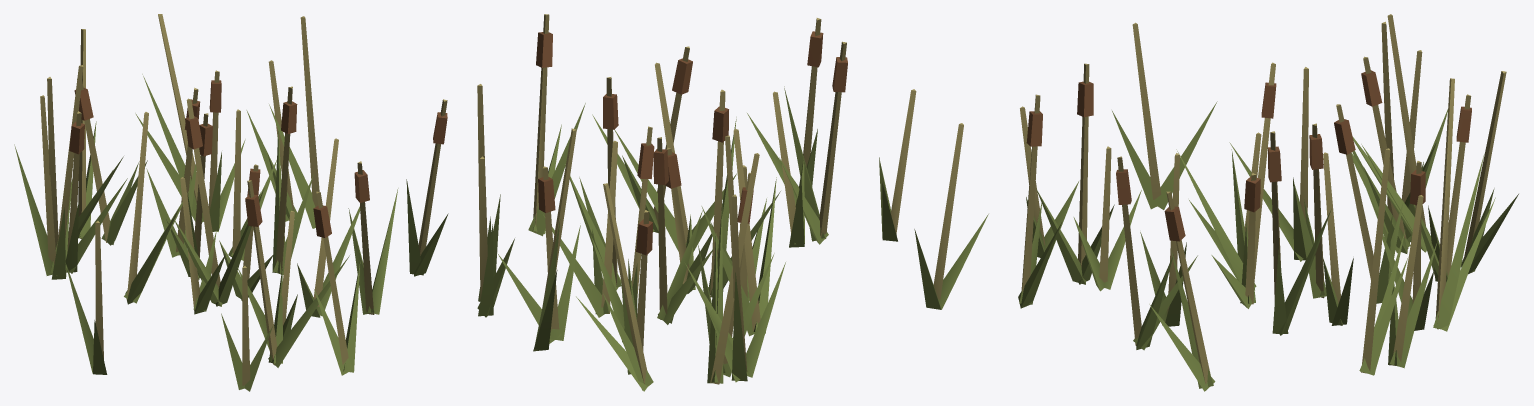
The model's file is reeds.glb.
The picture shows the model from 3 angles, left to right: view 1: azimuth 30°, elevation 25°; view 2: azimuth 150°, elevation 25°; view 3: azimuth 270°, elevation 25°; orthographic projection. The views are drawn at different scales.
Parts seen in each view (by area): view 1: reeds; view 2: reeds; view 3: reeds.
Boxes of the visible parts, x1=… form: reeds: x1=14, y1=14, x2=448, y2=391; reeds: x1=477, y1=14, x2=988, y2=391; reeds: x1=1018, y1=14, x2=1518, y2=391.
Bounding box in the file's own units: 3.16 × 1.69 × 3.3.
